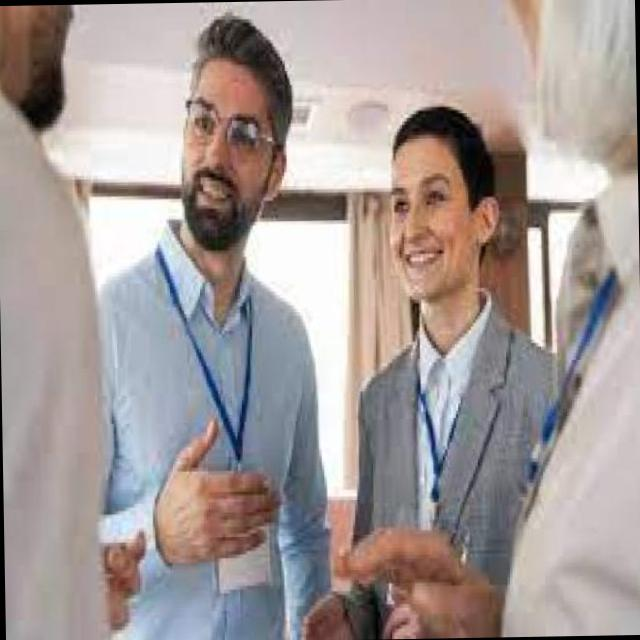id_card: (156, 244, 274, 599), (515, 265, 626, 550), (403, 334, 472, 559)
